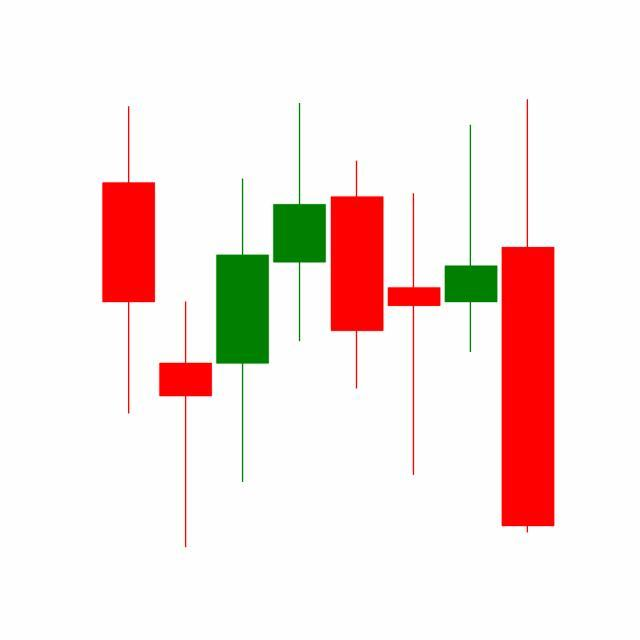Unique 3 River: (328, 121, 500, 480)
